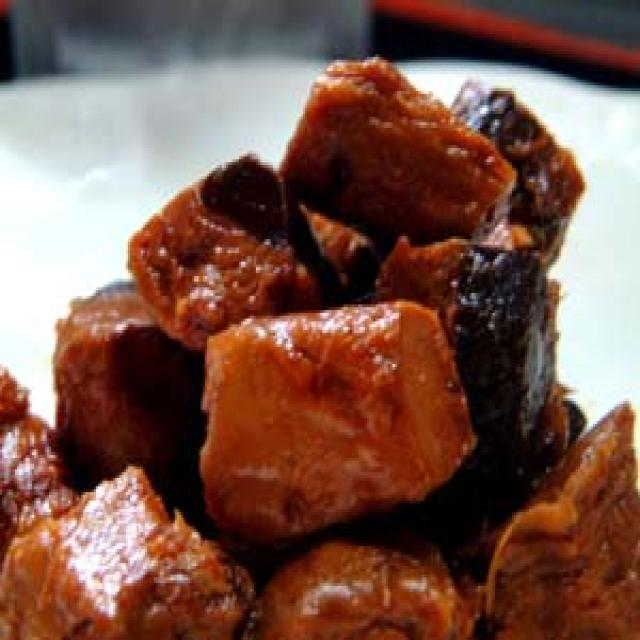猪肉菜式: (0, 42, 640, 640)
